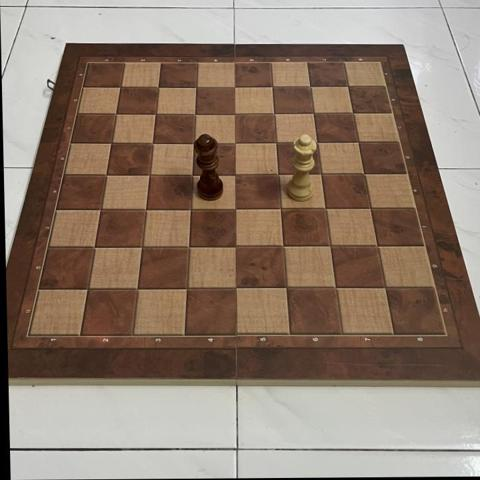xcorner: (183, 165, 201, 183), (140, 165, 158, 183), (97, 165, 115, 183), (321, 237, 339, 255), (274, 237, 292, 255), (78, 279, 96, 297), (340, 78, 358, 95), (302, 78, 320, 95), (264, 78, 282, 95), (305, 105, 323, 122), (226, 105, 244, 122), (107, 105, 125, 122), (350, 134, 368, 151), (226, 134, 244, 151), (102, 134, 120, 151), (356, 165, 373, 183), (313, 165, 330, 183), (270, 165, 287, 183), (227, 165, 244, 183), (91, 200, 109, 217), (369, 237, 386, 255), (227, 237, 244, 255), (132, 238, 150, 255), (326, 279, 344, 296), (227, 279, 245, 296), (178, 279, 195, 297), (128, 279, 145, 297), (226, 78, 243, 95), (188, 78, 205, 95), (150, 78, 167, 95), (112, 78, 129, 95), (345, 105, 362, 122), (266, 105, 283, 122), (187, 105, 204, 122), (147, 105, 164, 122), (309, 134, 326, 151), (268, 134, 285, 151), (185, 134, 202, 151), (144, 134, 161, 151), (362, 200, 379, 217), (317, 200, 334, 217), (272, 200, 289, 217), (227, 200, 244, 217), (182, 200, 199, 217), (137, 200, 154, 217), (180, 238, 197, 255), (85, 238, 102, 255), (376, 279, 393, 296), (277, 279, 294, 296)
